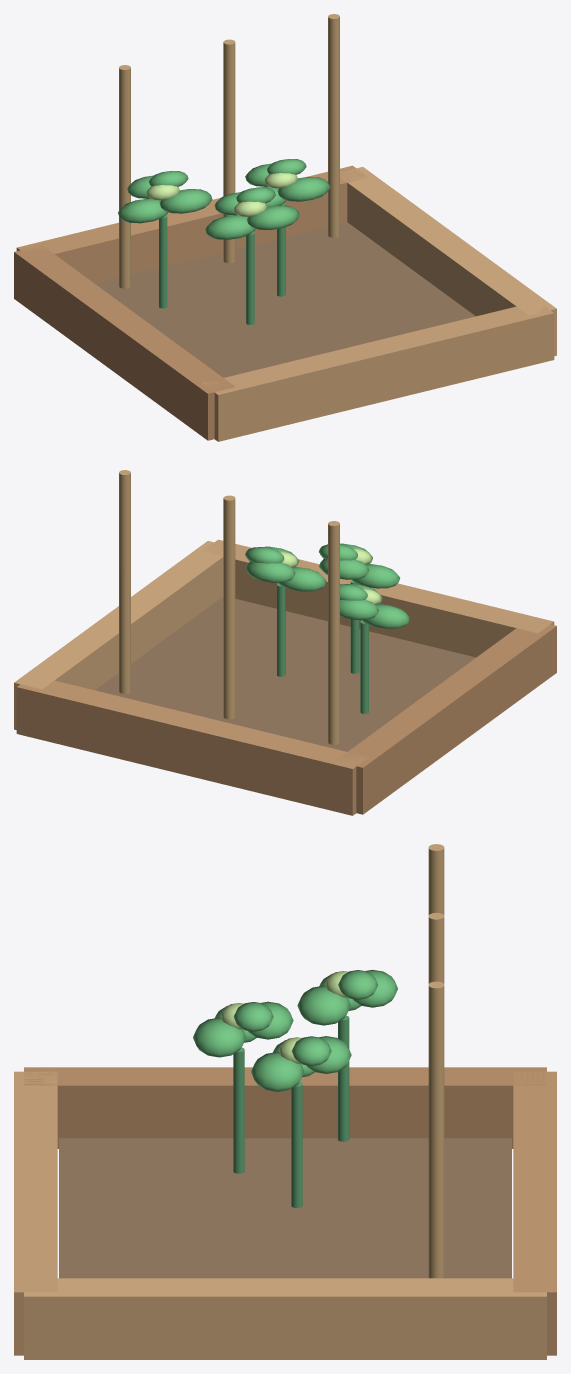
Rendered from crop_tomato_early.glb.
The picture shows the model from 3 angles, top to bottom: view 1: azimuth 30°, elevation 25°; view 2: azimuth 150°, elevation 25°; view 3: azimuth 270°, elevation 25°; orthographic projection. The views are drawn at different scales.
Bounding box in the file's own units: 0.935 × 0.64 × 0.935.
